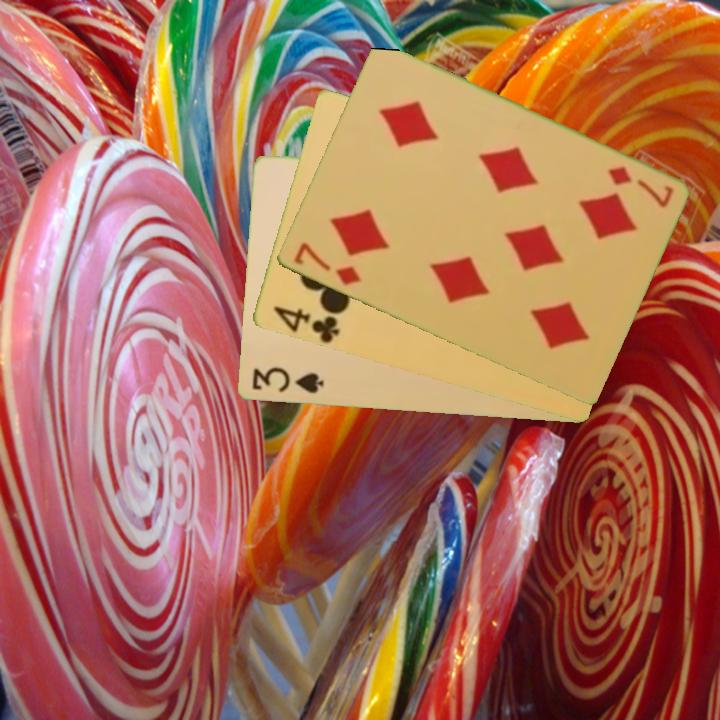3s: (248, 364, 327, 397)
4c: (269, 302, 342, 345)
7d: (290, 238, 364, 289), (604, 163, 676, 210)
